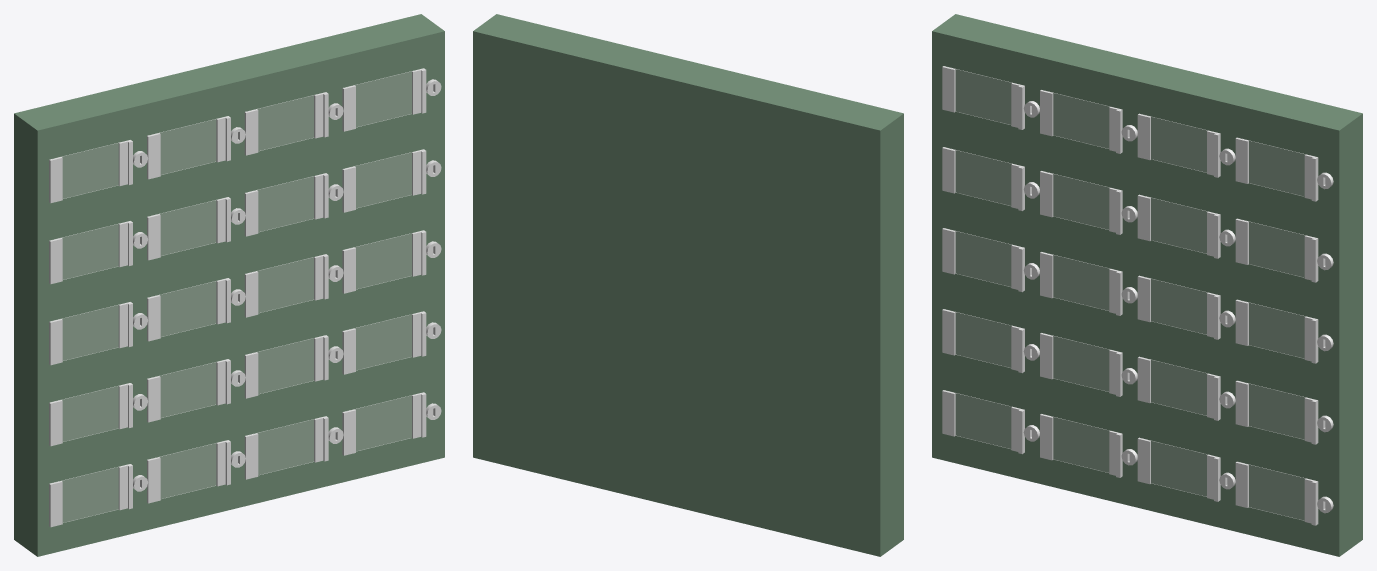
Rendered from telefon opladerstation kopi.glb.
3 views of the same model, side by side, from view 1: azimuth 30°, elevation 25°; view 2: azimuth 150°, elevation 25°; view 3: azimuth 330°, elevation 25° (orthographic).
Parts seen in each view (by area): view 1: Solid1; view 2: Solid1; view 3: Solid1.
Boxes of the visible parts, left/top/right/bottom form: Solid1: left=14, top=14, right=444, bottom=556; Solid1: left=473, top=14, right=903, bottom=556; Solid1: left=932, top=14, right=1362, bottom=556.
Bounding box in the file's own units: 1 × 1 × 0.111.
